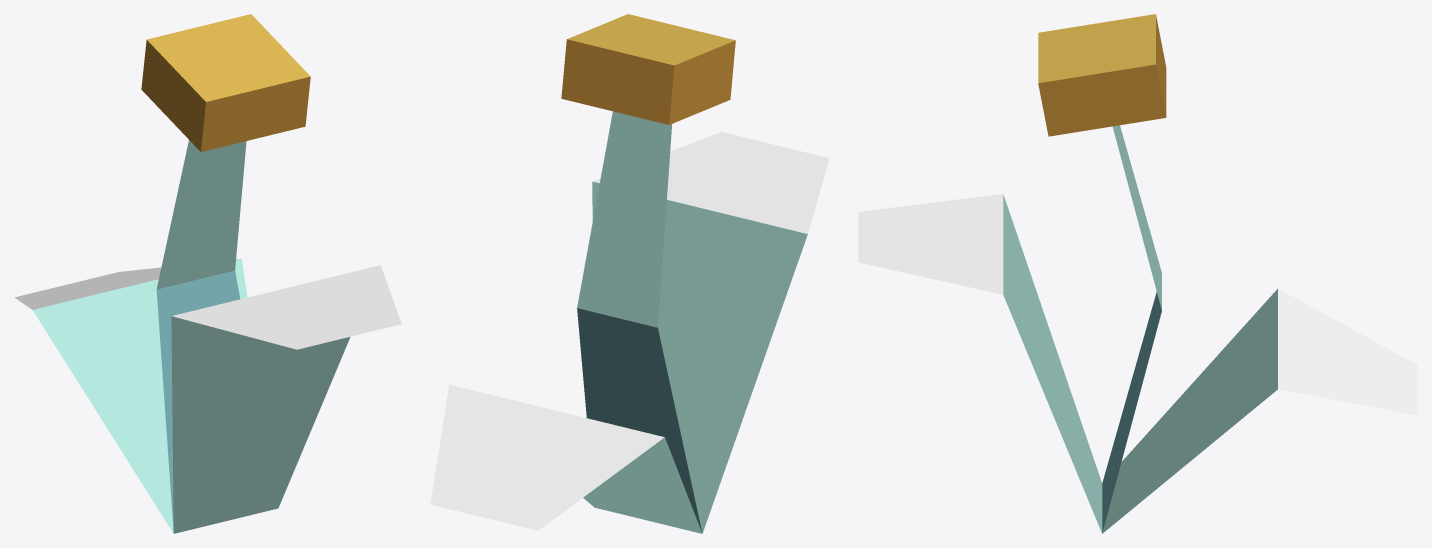
File: maskros.glb
The picture shows the model from 3 angles, left to right: view 1: azimuth 30°, elevation 25°; view 2: azimuth 150°, elevation 25°; view 3: azimuth 270°, elevation 25°; orthographic projection. The views are drawn at different scales.
Visible parts, largest first — view 1: stem, flower; view 2: stem, flower; view 3: stem, flower.
Boxes of the visible parts, left/top/right/bottom form: stem: left=14, top=140, right=401, bottom=533; flower: left=141, top=14, right=310, bottom=151; stem: left=430, top=111, right=829, bottom=533; flower: left=561, top=14, right=735, bottom=124; stem: left=858, top=125, right=1417, bottom=533; flower: left=1038, top=14, right=1166, bottom=136.
Bounding box in the file's own units: 0.125 × 0.2708 × 0.2925.
Materials: 1 (1 with a texture image).
